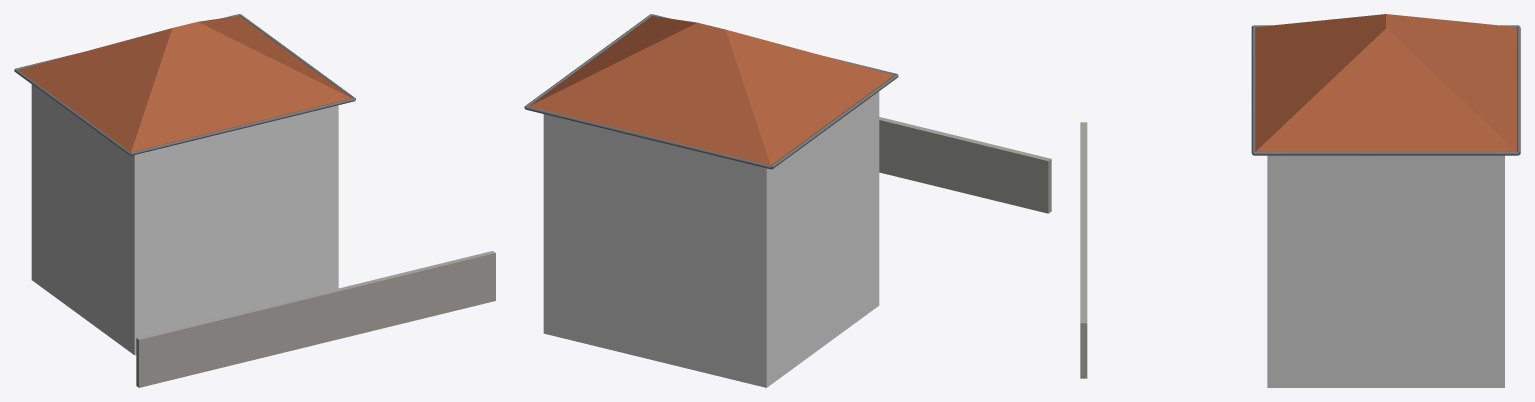
The model's file is bina_11_u.glb.
The picture shows the model from 3 angles, left to right: view 1: azimuth 30°, elevation 25°; view 2: azimuth 150°, elevation 25°; view 3: azimuth 270°, elevation 25°; orthographic projection. The views are drawn at different scales.
Visible parts, largest first — view 1: P11_Gecekondu_B_L2.001; view 2: P11_Gecekondu_B_L2.001; view 3: P11_Gecekondu_B_L2.001.
Boxes of the visible parts, x1=… form: P11_Gecekondu_B_L2.001: x1=14, y1=14, x2=495, y2=387; P11_Gecekondu_B_L2.001: x1=524, y1=14, x2=1051, y2=387; P11_Gecekondu_B_L2.001: x1=1080, y1=14, x2=1520, y2=387.
Bounding box in the file's own units: 14 × 10.05 × 12.96.
